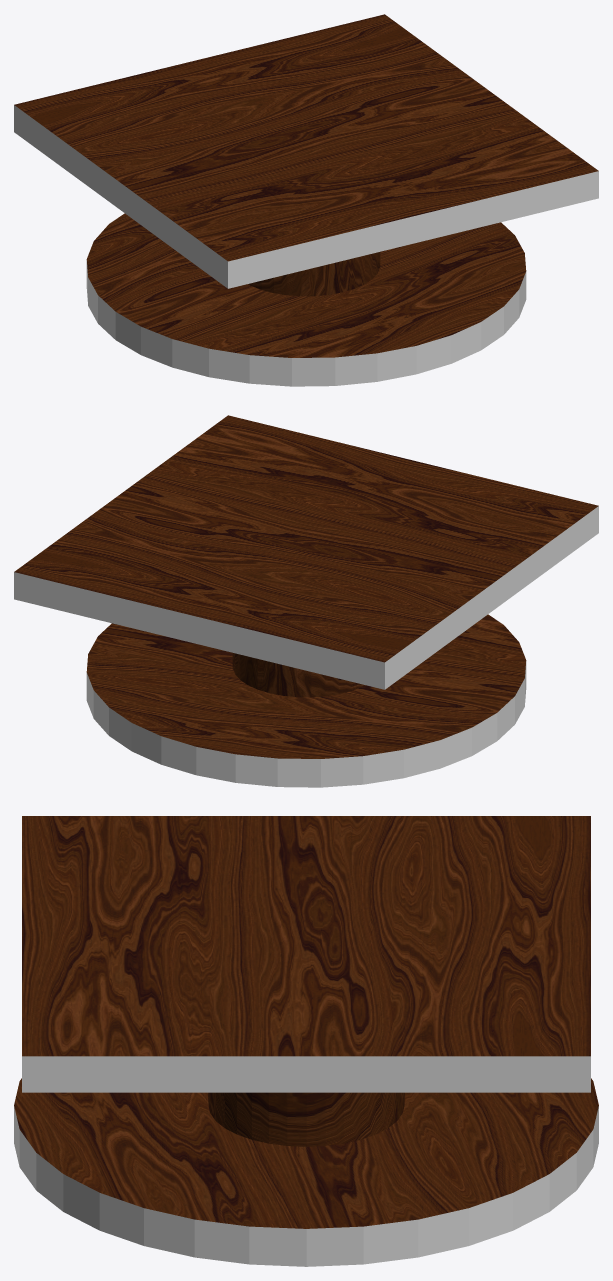
File: square.fbx
3 renders of one model, top to bottom at view 1: azimuth 30°, elevation 25°; view 2: azimuth 150°, elevation 25°; view 3: azimuth 270°, elevation 25°, orthographic. The views are drawn at different scales.
Parts seen in each view (by area): view 1: Square; view 2: Square; view 3: Square.
Part boxes in pixels (x1,y1,x2,y2): Square: [14, 14, 598, 386]; Square: [14, 415, 598, 787]; Square: [14, 816, 598, 1266].
Size of the model in its own units: 128 by 49.8 by 128.
